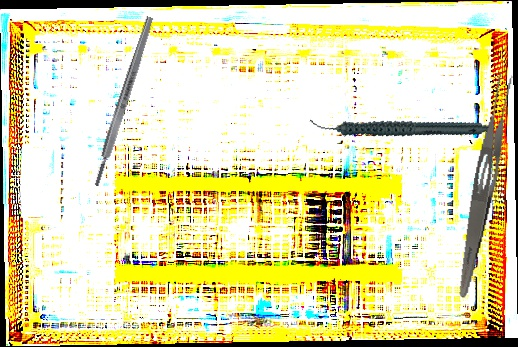Dressing Forceps: (453, 69, 518, 301)
Handpiece: (308, 81, 495, 172)
Scalpel Handle: (90, 15, 157, 188)
